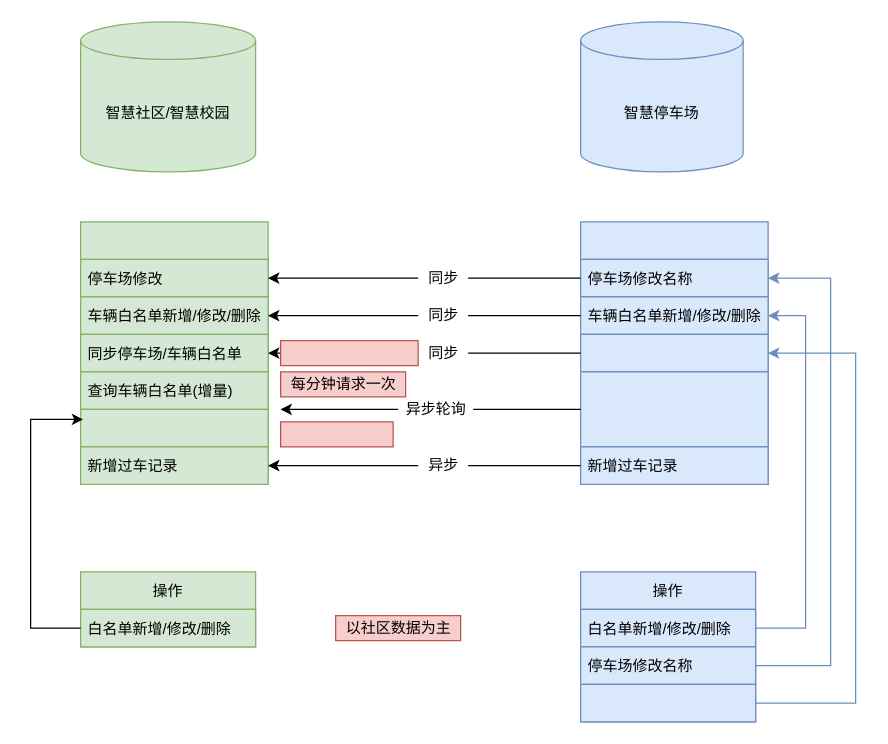
Image size: 888x744. Some labels were removed from this diagram. The box of each missing label's shape, as (x1, y1, x2, y2) in pixels:
以停车场数据为主: (279, 339, 418, 366)
修改社区接口URL: (579, 683, 756, 722)
关联地址（社区/校园）: (579, 333, 768, 372)
同步车辆白名单数据: (579, 371, 768, 447)
提供接口: (79, 221, 268, 484)
查询车辆白名单(全量): (79, 408, 268, 447)
每天请求一次: (279, 421, 393, 447)
消费接口: (579, 221, 768, 484)
